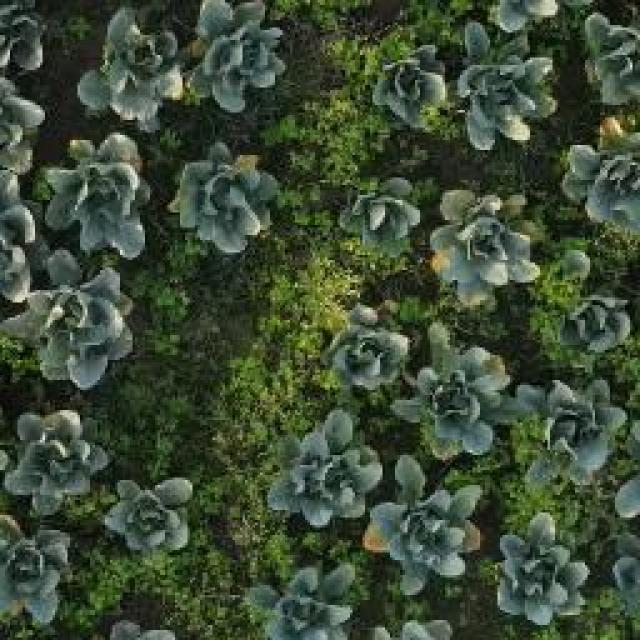cabbage: (76, 6, 186, 130), (43, 128, 147, 257), (511, 370, 628, 483), (18, 267, 130, 385), (400, 345, 510, 463), (168, 145, 281, 256), (273, 410, 381, 524), (460, 28, 560, 148), (434, 188, 540, 299), (188, 0, 288, 108), (495, 513, 589, 625), (4, 406, 106, 505), (562, 112, 640, 238), (0, 512, 75, 623), (105, 471, 200, 556), (252, 565, 358, 640), (370, 40, 455, 130), (557, 270, 640, 362), (324, 305, 410, 393), (343, 172, 423, 247)
